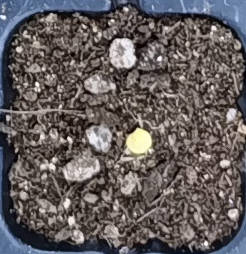chilli seed: (125, 127, 151, 154)
